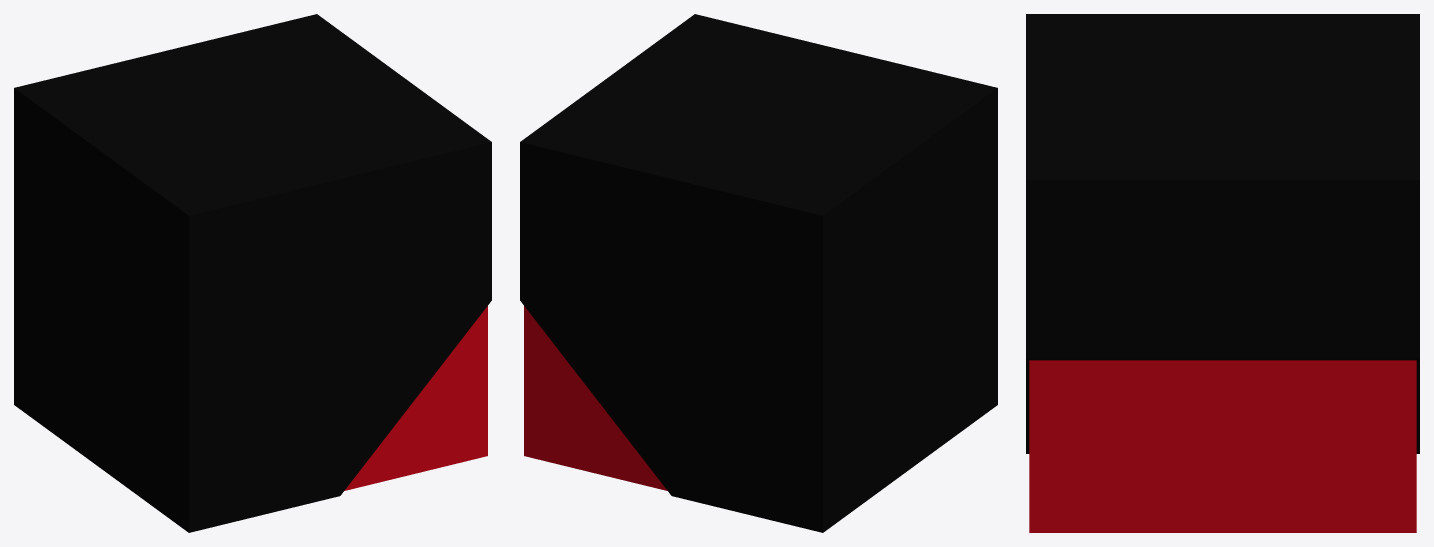
Rendered from player_cube0.fbx.
The picture shows the model from 3 angles, left to right: view 1: azimuth 30°, elevation 25°; view 2: azimuth 150°, elevation 25°; view 3: azimuth 270°, elevation 25°; orthographic projection. The views are drawn at different scales.
Parts seen in each view (by area): view 1: Cube; view 2: Cube; view 3: Cube.
Boxes of the visible parts, bbox=[...] form: Cube: bbox=[14, 14, 491, 532]; Cube: bbox=[520, 14, 997, 532]; Cube: bbox=[1026, 14, 1419, 532].
Size of the model in its own units: 100 by 100 by 100.
